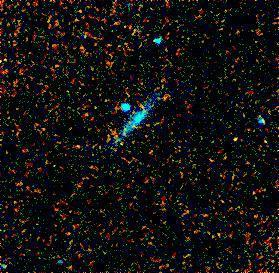star: (222, 124, 252, 154)
